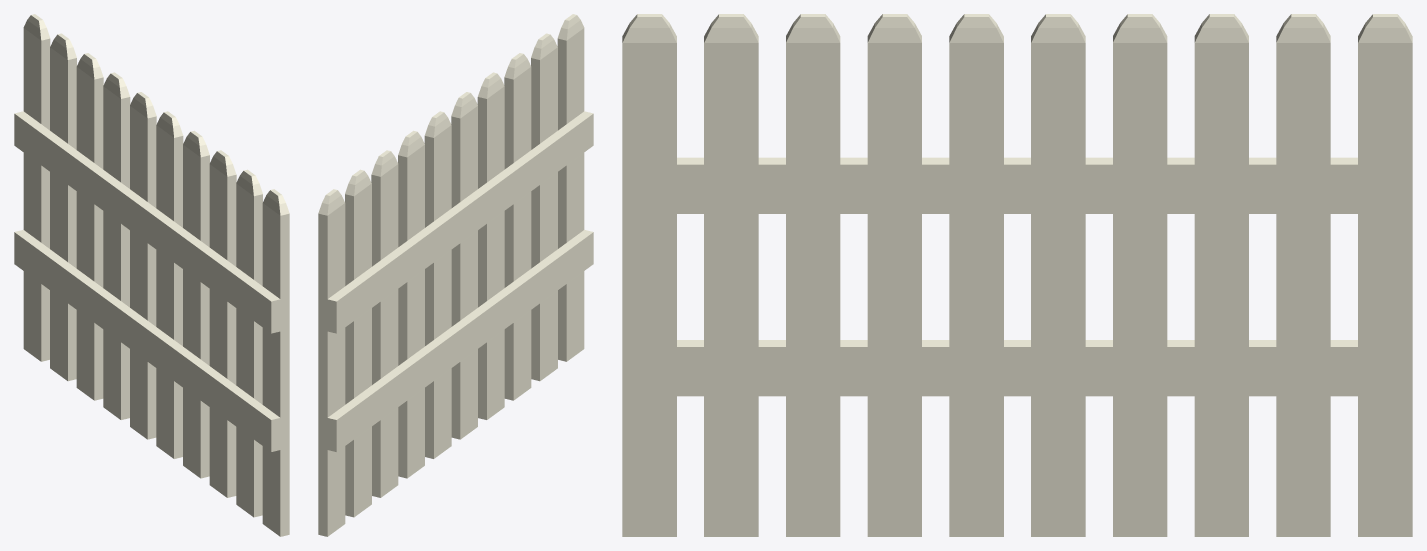
File: fence.fbx
The picture shows the model from 3 angles, left to right: view 1: azimuth 30°, elevation 25°; view 2: azimuth 150°, elevation 25°; view 3: azimuth 270°, elevation 25°; orthographic projection. The views are drawn at different scales.
Parts seen in each view (by area): view 1: Cube; view 2: Cube; view 3: Cube.
Part boxes in pixels (x1=…): Cube: x1=14, y1=14, x2=289, y2=536; Cube: x1=318, y1=14, x2=593, y2=536; Cube: x1=622, y1=14, x2=1412, y2=536.
Size of the model in its own units: 6 by 105 by 145.
